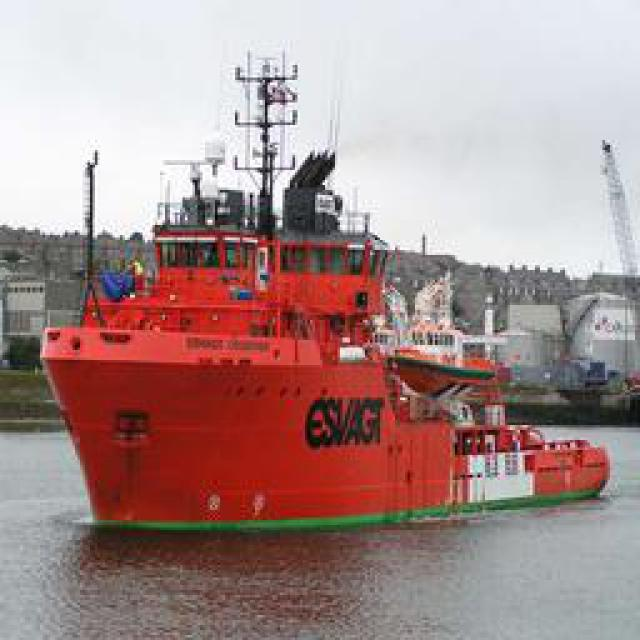Ship: (44, 42, 619, 535)
